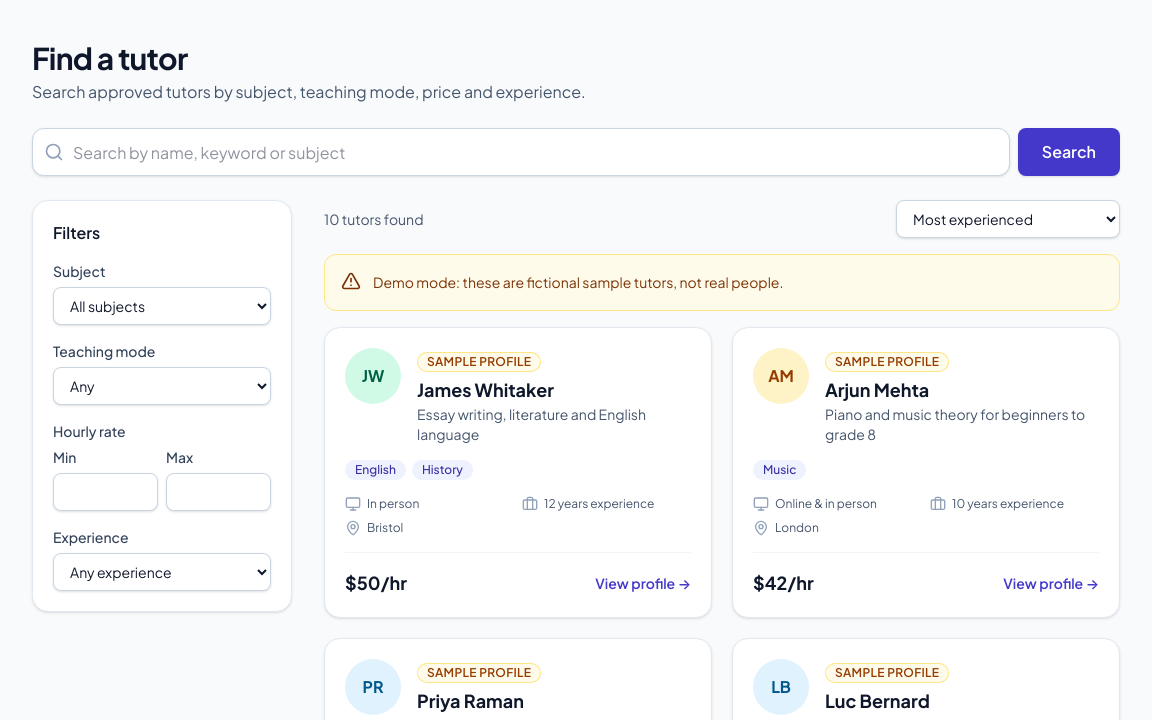
Test case: tutor search page (demo data) › searches by keyword and shows an empty state
Type "nothing-matches-this" into the search field with placeholder "Search by name, keyword or subject" at (521, 152), box [32,128,1010,176]
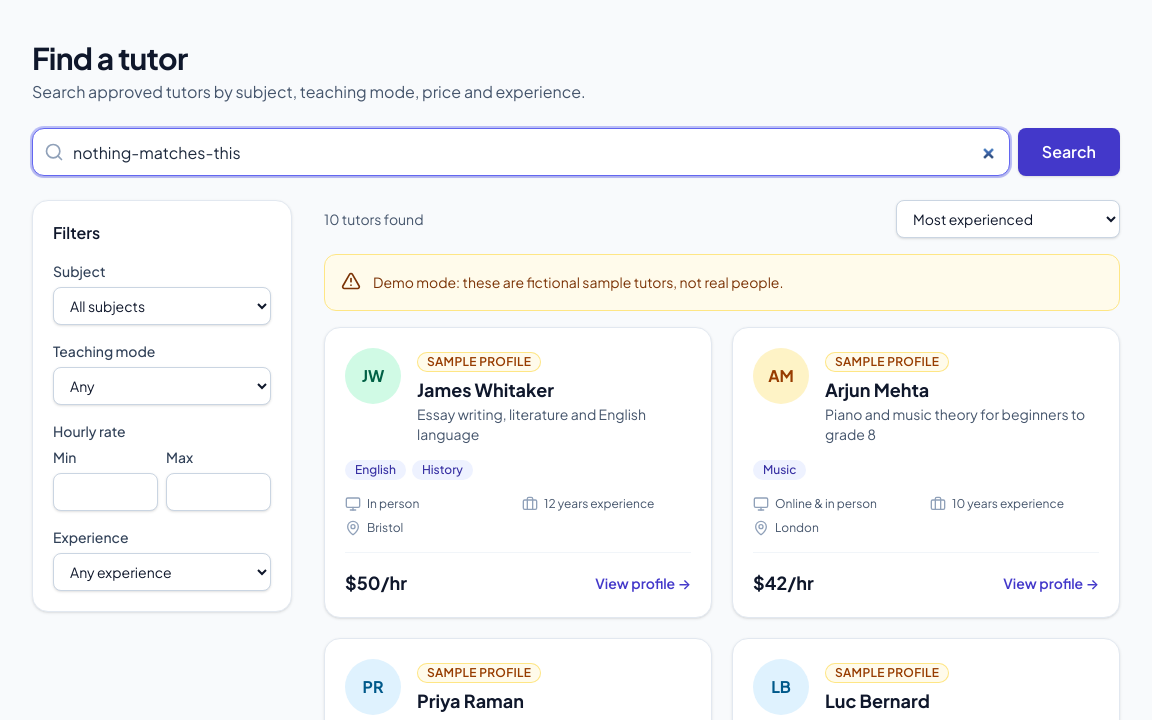
Click the button "Search" at (1069, 152), box [1018,128,1120,176]
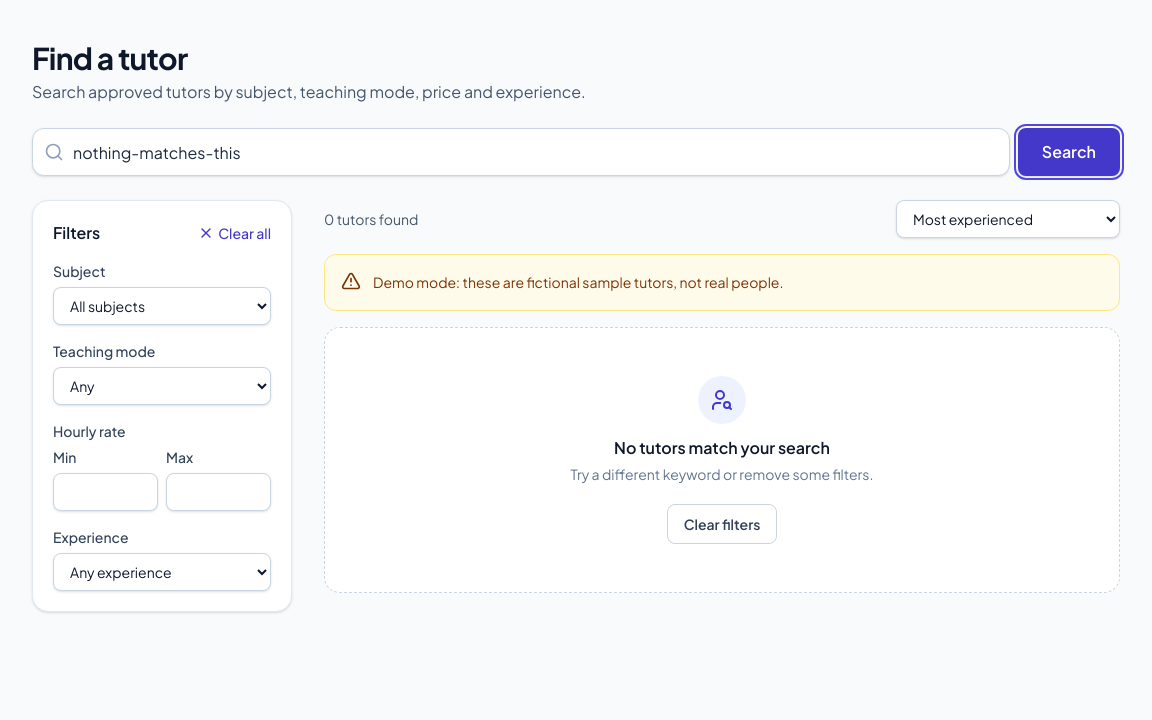
Now the heading "No tutors match your search" is shown, box [614,436,830,460]
